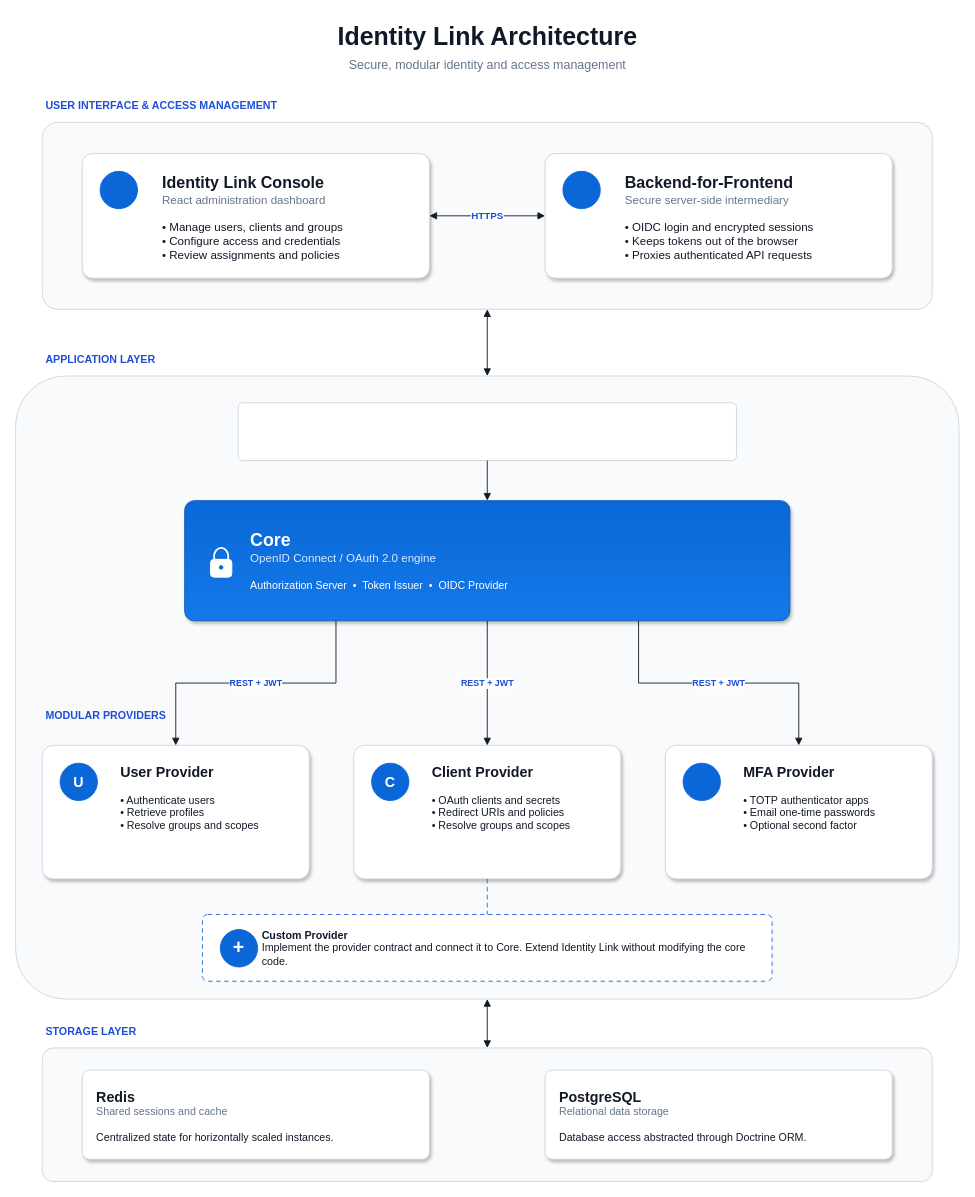
This 975x1197 diagram has some shape labels left out. Each missing label, with the centre of its shape:
"2FA" belongs at (x=701, y=781).
"BFF" belongs at (x=581, y=189).
"Nginx Reverse proxy • TLS termination • Static assets" belongs at (x=486, y=431).
"UI" belongs at (x=118, y=189).
